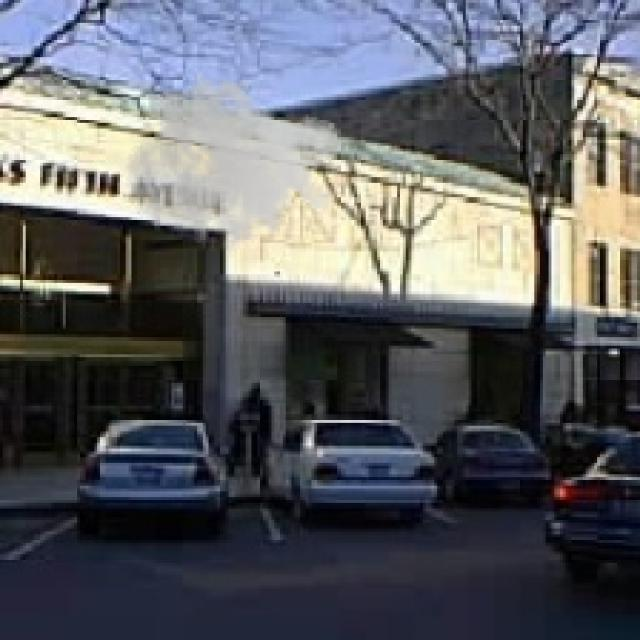Smoke: (126, 66, 343, 266)
